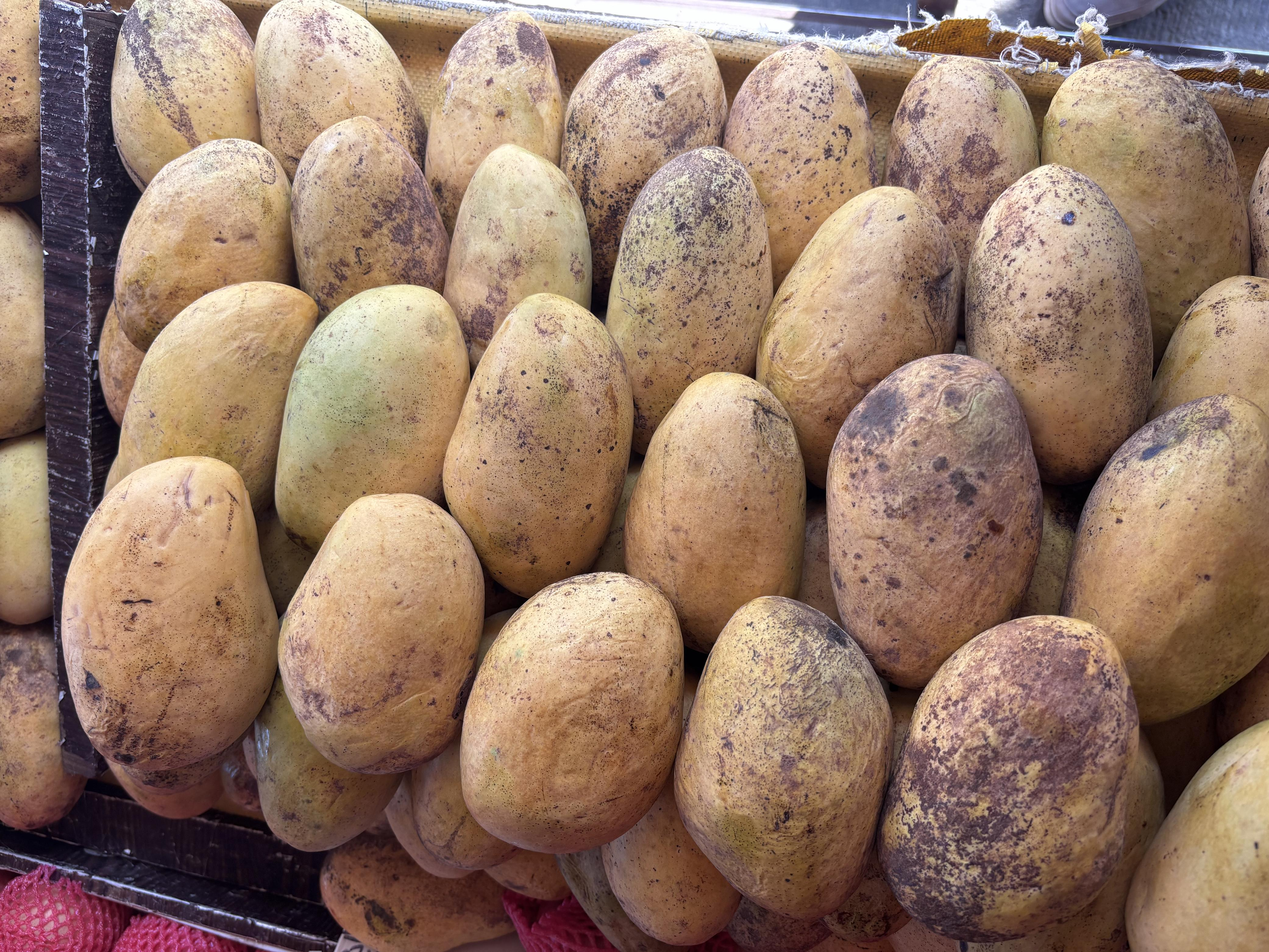mango: (879, 616, 1139, 942), (827, 355, 1042, 688), (675, 597, 892, 919), (62, 457, 278, 776), (461, 573, 683, 852), (278, 494, 484, 774), (444, 293, 633, 596)
occluded: (1062, 394, 1269, 723), (1042, 58, 1250, 365), (757, 187, 960, 486), (966, 165, 1152, 483), (275, 285, 469, 552), (606, 146, 772, 452), (624, 373, 805, 651), (116, 281, 317, 512), (561, 27, 726, 307), (115, 139, 295, 350), (724, 41, 878, 287), (444, 144, 592, 369), (885, 56, 1039, 271), (1127, 721, 1269, 952), (292, 116, 449, 316), (424, 11, 563, 232), (255, 0, 425, 178), (111, 0, 260, 189), (255, 675, 398, 851), (600, 774, 741, 945), (321, 834, 514, 952), (0, 620, 86, 829), (1149, 276, 1269, 418), (411, 739, 519, 869), (0, 206, 45, 438), (0, 430, 53, 624), (0, 0, 39, 201)
